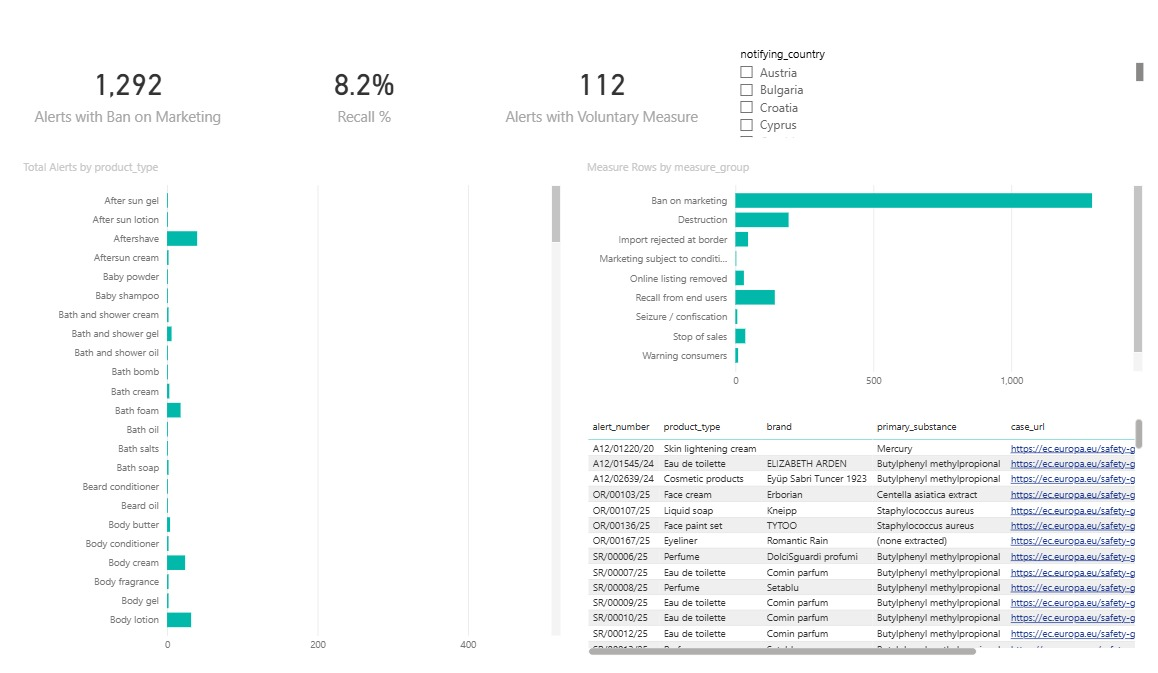

What the dashboard file says about the page in this screenshot:
{"tool":"powerbi","page":{"name":"Product and Corrective Measure Analysis","canvas":[1280,720],"ordinal":3},"visuals":[{"type":"card","fields":{"Values":["Alerts.Alerts with Ban on Marketing"]},"box":[20,20,240,110],"z":1},{"type":"card","fields":{"Values":["Alerts.Recall %"]},"box":[280,20,240,110],"z":2},{"type":"card","fields":{"Values":["Alerts.Alerts with Voluntary Measure"]},"box":[540,20,240,110],"z":3},{"type":"slicer","fields":{"Values":["Alerts.notifying_country"]},"box":[800,20,460,110],"z":4},{"type":"clusteredBarChart","fields":{"Category":["Alerts.product_type"],"Y":["Alerts.Total Alerts"]},"box":[20,150,600,550],"z":5},{"type":"clusteredBarChart","fields":{"Category":["CorrectiveMeasures.measure_group"],"Y":["Alerts.Measure Rows"]},"box":[640,150,620,260],"z":6},{"type":"tableEx","fields":{"Values":["Alerts.alert_number","Alerts.product_type","Alerts.brand","Alerts.primary_substance","Alerts.case_url"]},"box":[640,430,620,270],"z":7}]}

Visuals, with their boxes on the page's 1280x720 design canvas (x1, y1, x2, y2). These are canvas units, not pixel positions in the 1158x673 screenshot, which may show the page scaled, cropped or inside an application window:
card - Alerts.Alerts with Ban on Marketing: <box>20,20,260,130</box>
card - Alerts.Recall %: <box>280,20,520,130</box>
card - Alerts.Alerts with Voluntary Measure: <box>540,20,780,130</box>
slicer - Alerts.notifying_country: <box>800,20,1260,130</box>
clusteredBarChart - Alerts.product_type x Alerts.Total Alerts: <box>20,150,620,700</box>
clusteredBarChart - CorrectiveMeasures.measure_group x Alerts.Measure Rows: <box>640,150,1260,410</box>
tableEx - Alerts.alert_number x Alerts.product_type: <box>640,430,1260,700</box>
